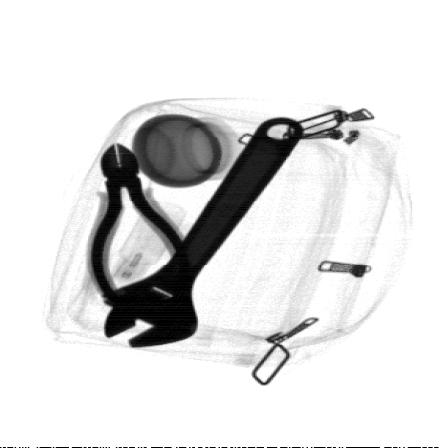Pliers: (87, 141, 191, 308)
Wrench: (104, 117, 306, 347)
